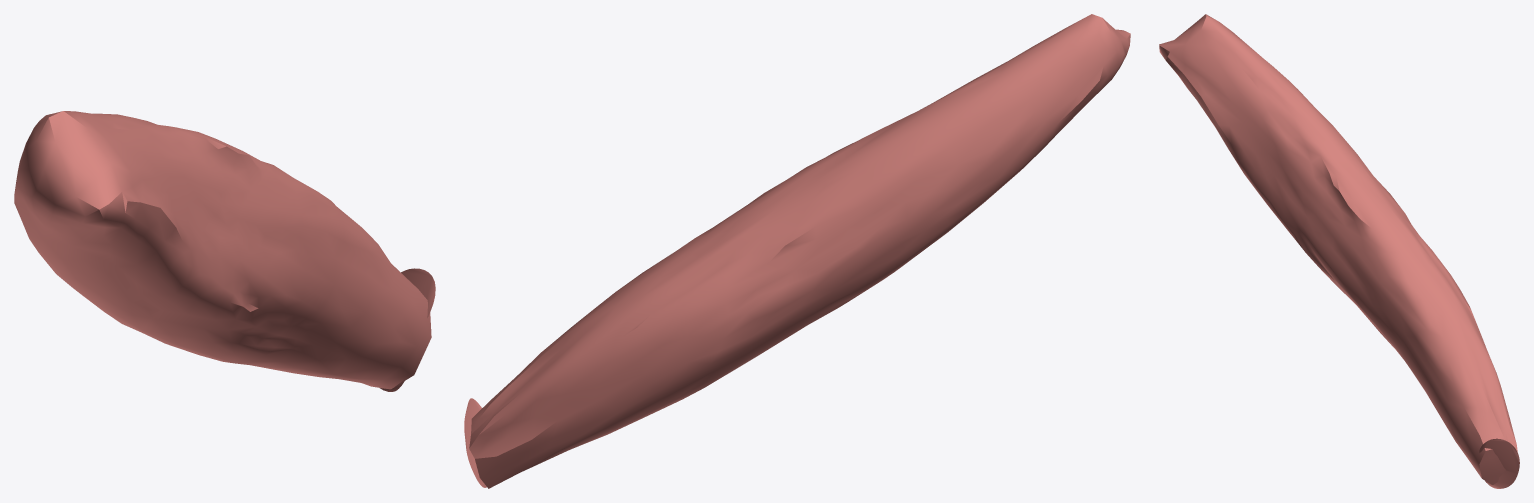
File: fma32536_mm1311m.glb
3 views of the same model, side by side, from view 1: azimuth 30°, elevation 25°; view 2: azimuth 150°, elevation 25°; view 3: azimuth 270°, elevation 25° (orthographic). The views are drawn at different scales.
Parts seen in each view (by area): view 1: FMA32536_MM1311M; view 2: FMA32536_MM1311M; view 3: FMA32536_MM1311M.
Part boxes in pixels (<box>): FMA32536_MM1311M: <box>14,111,435,391</box>; FMA32536_MM1311M: <box>464,14,1130,488</box>; FMA32536_MM1311M: <box>1159,14,1519,488</box>.
Size of the model in its own units: 0.0375 by 0.0336 by 0.0341.
